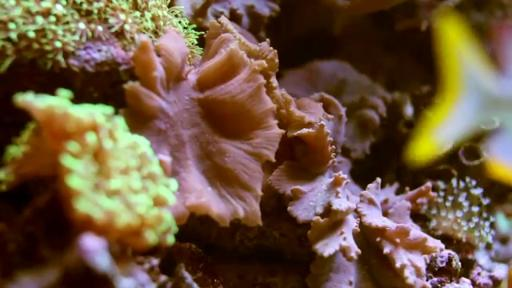Fish: (404, 8, 511, 185)
